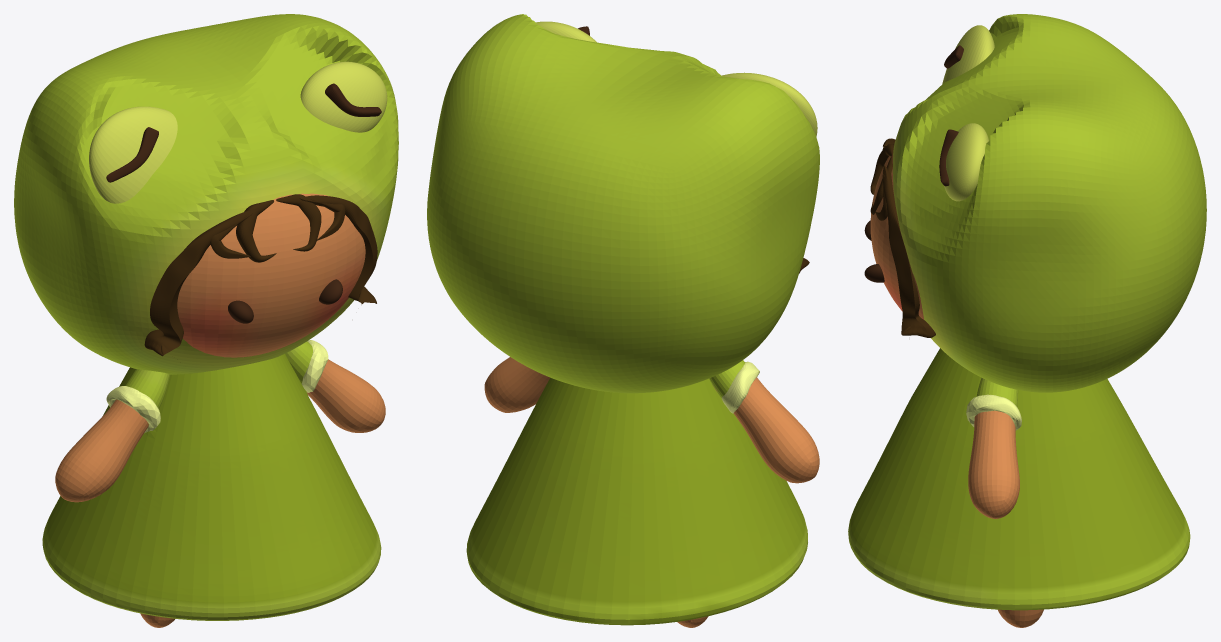
File: frog.glb
The picture shows the model from 3 angles, left to right: view 1: azimuth 30°, elevation 25°; view 2: azimuth 150°, elevation 25°; view 3: azimuth 270°, elevation 25°; orthographic projection. The views are drawn at different scales.
Parts seen in each view (by area): view 1: Quad Sphere, Cone, UV Sphere (×2), Tube (×10), UV Sphere 1, Tube 1; view 2: Quad Sphere, Cone, Tube (×3), UV Sphere 1, UV Sphere; view 3: Quad Sphere, Cone, Tube (×3), UV Sphere (×2), UV Sphere 1, Tube 2.
Part boxes in pixels (x1,y1,x2,y2): Quad Sphere: (14, 14, 398, 374); Cone: (42, 354, 381, 620); UV Sphere (×2): (177, 61, 387, 357); Tube (×10): (55, 127, 385, 502); UV Sphere 1: (89, 106, 177, 203); Tube 1: (325, 83, 381, 116); Quad Sphere: (427, 14, 819, 393); Cone: (466, 377, 807, 625); Tube (×3): (484, 357, 819, 483); UV Sphere 1: (721, 72, 817, 136); UV Sphere: (536, 21, 596, 42); Quad Sphere: (892, 14, 1206, 392); Cone: (848, 348, 1190, 610); Tube (×3): (882, 164, 1021, 518); UV Sphere (×2): (870, 123, 988, 319); UV Sphere 1: (942, 25, 994, 83); Tube 2: (998, 609, 1043, 627).
Bounding box in the file's own units: 0.3492 × 0.5635 × 0.3373.
